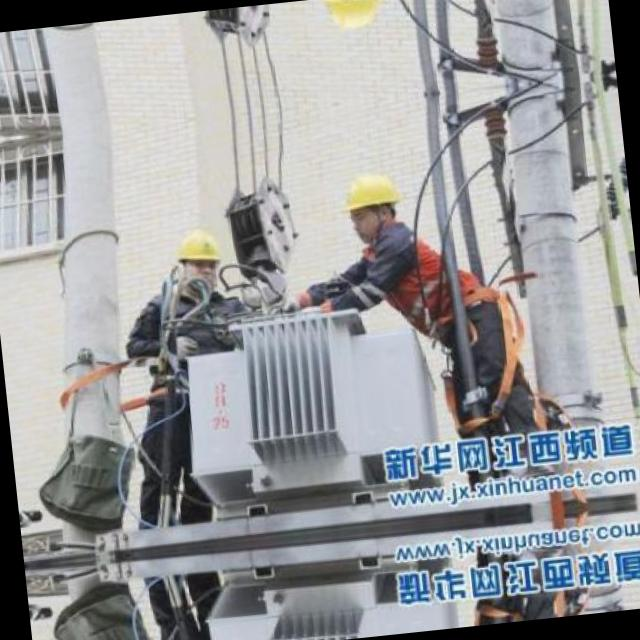helmet: (332, 164, 407, 245), (168, 223, 226, 288), (314, 0, 387, 38)
